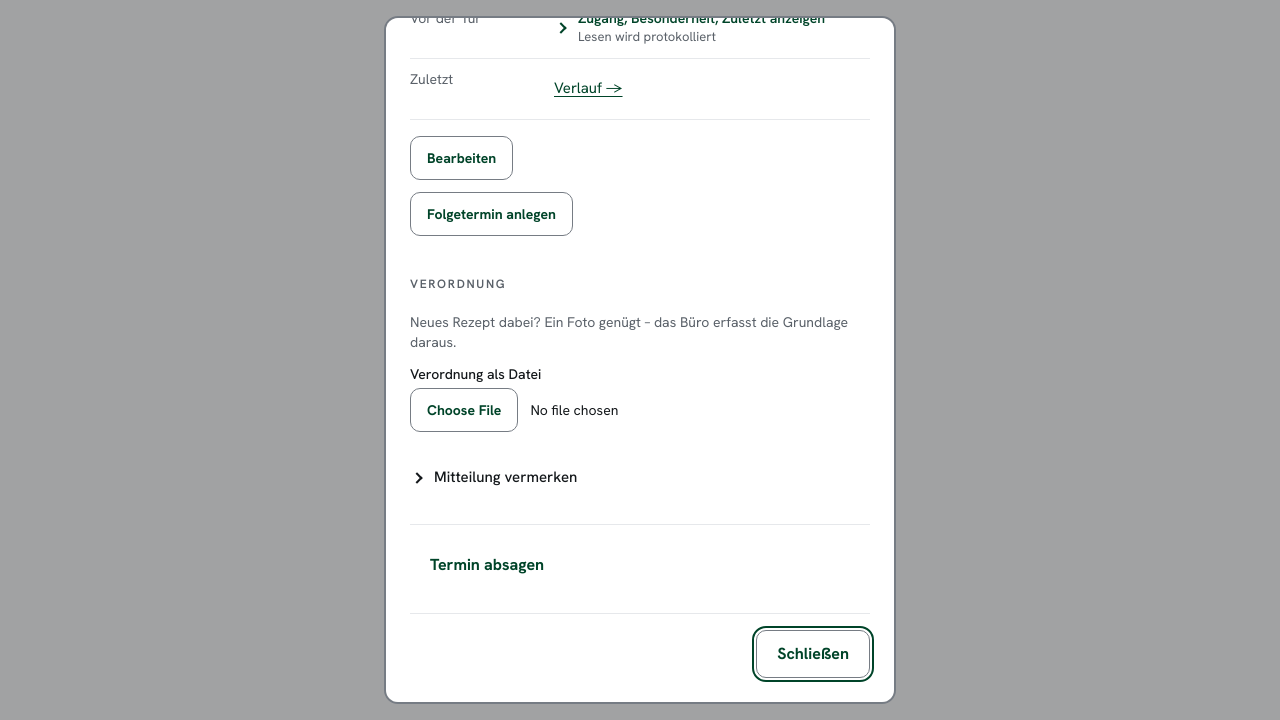
Test case: TerminAktionenDialog › Aktionen (CAL-003) › sagt nicht auf einen einzelnen Klick hin ab, sondern fragt zurueck
This screenshot has width=1280, height=720.
(page scrolled)
Click the button "Termin absagen".
click(487, 564)  # box x1=410 y1=540 x2=564 y2=588
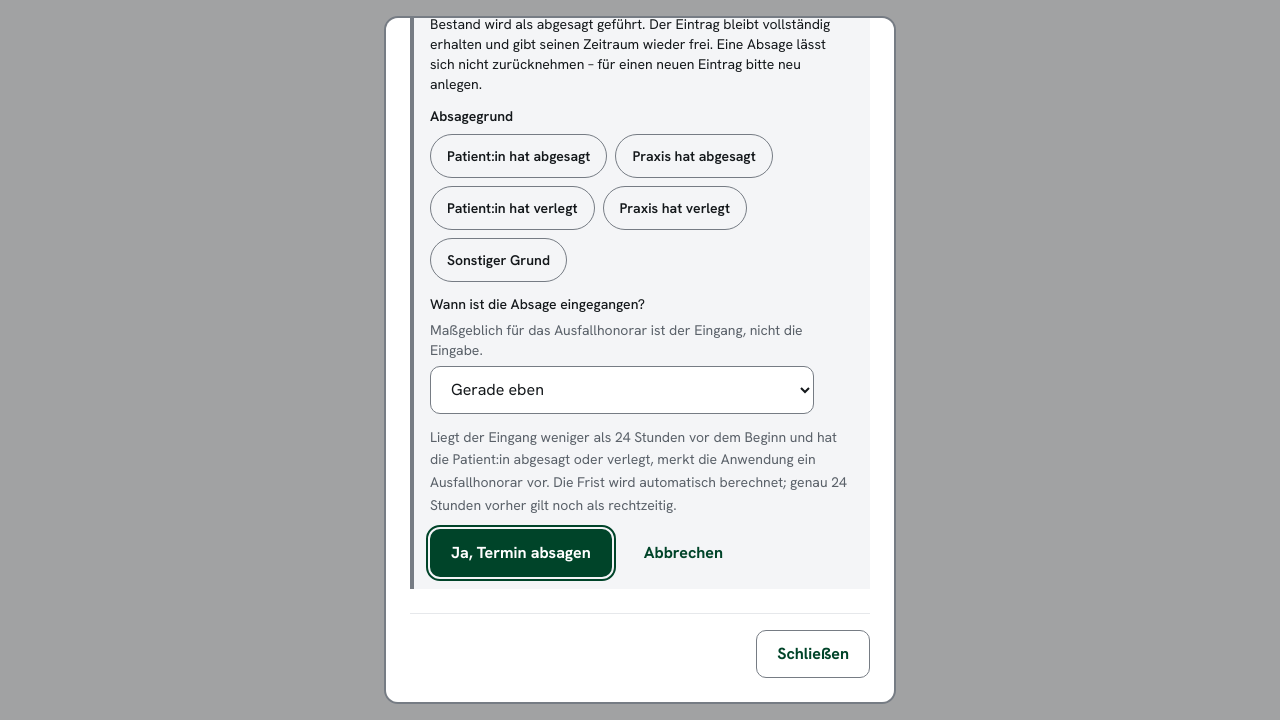
expect the button "Ja, Termin absagen" is shown: met, box x1=430 y1=528 x2=612 y2=576
